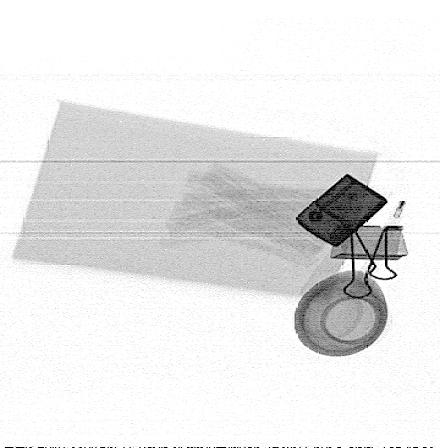Lighter: (295, 173, 389, 248)
